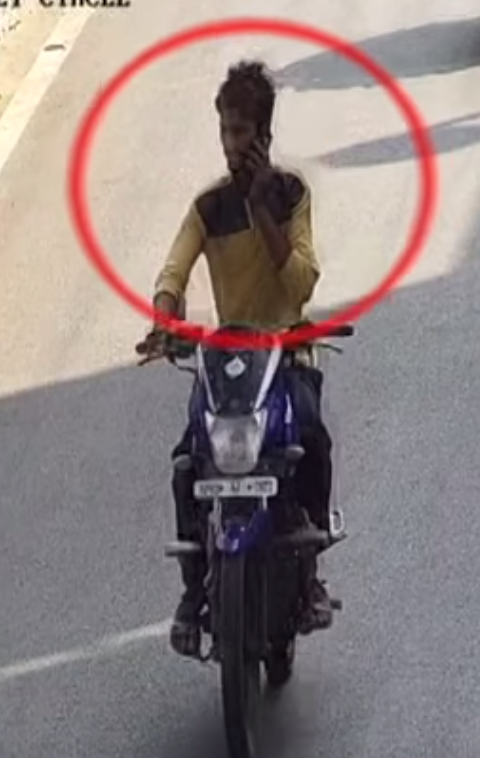h_bike: (145, 24, 347, 757)
h_nohelmet: (208, 50, 281, 203)
numplate: (184, 473, 286, 508)
